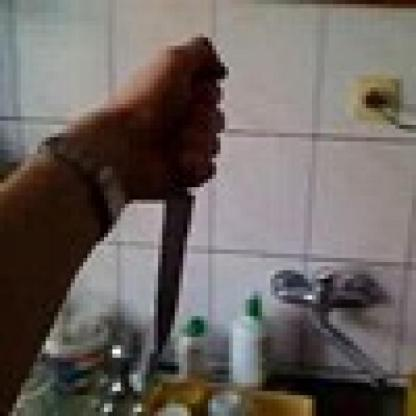Knife: (145, 38, 233, 350)
